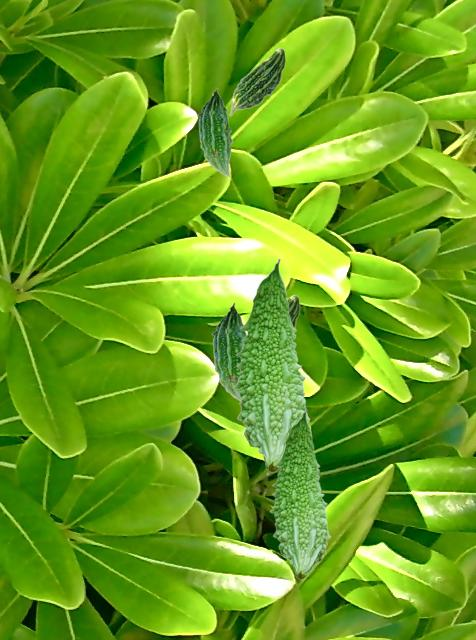ampalaya: (232, 257, 311, 473), (269, 408, 331, 579), (228, 47, 286, 116), (211, 302, 246, 400), (197, 87, 233, 177), (288, 294, 300, 327)
